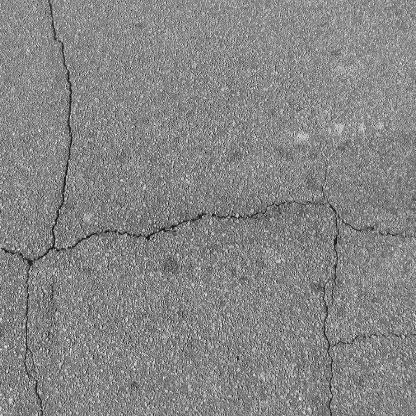Cracks: (0, 23, 70, 416), (72, 186, 416, 255), (311, 259, 351, 416), (42, 0, 58, 21)
